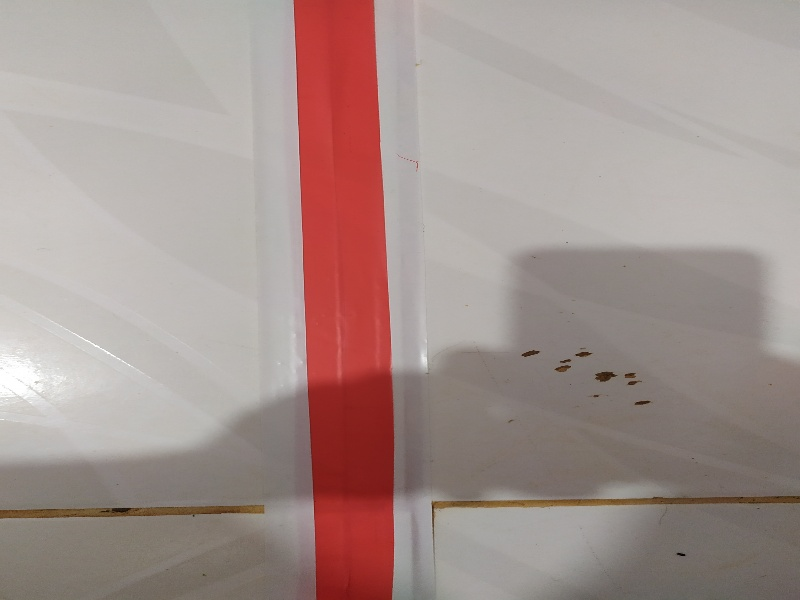faixa: (259, 7, 431, 600)
